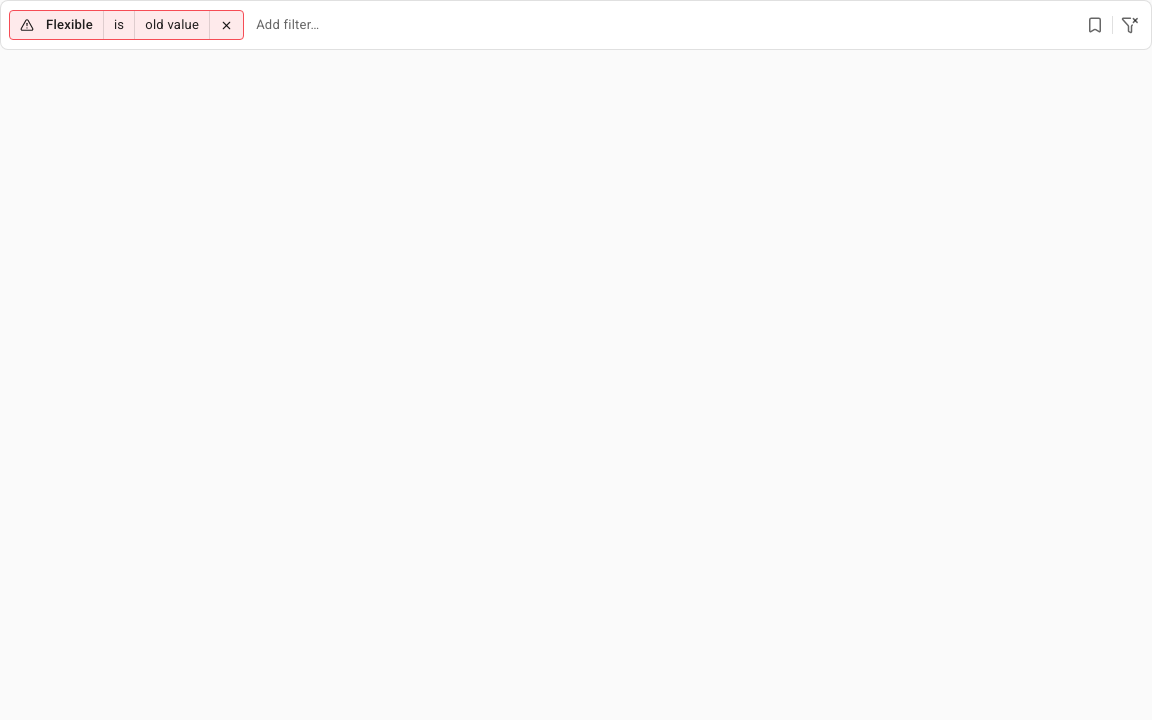
Test case: controller integration regressions › repairs a non-first same-key token after its field type changes
Click the button titled "Change value" at (172, 25), box [135,11,209,39]
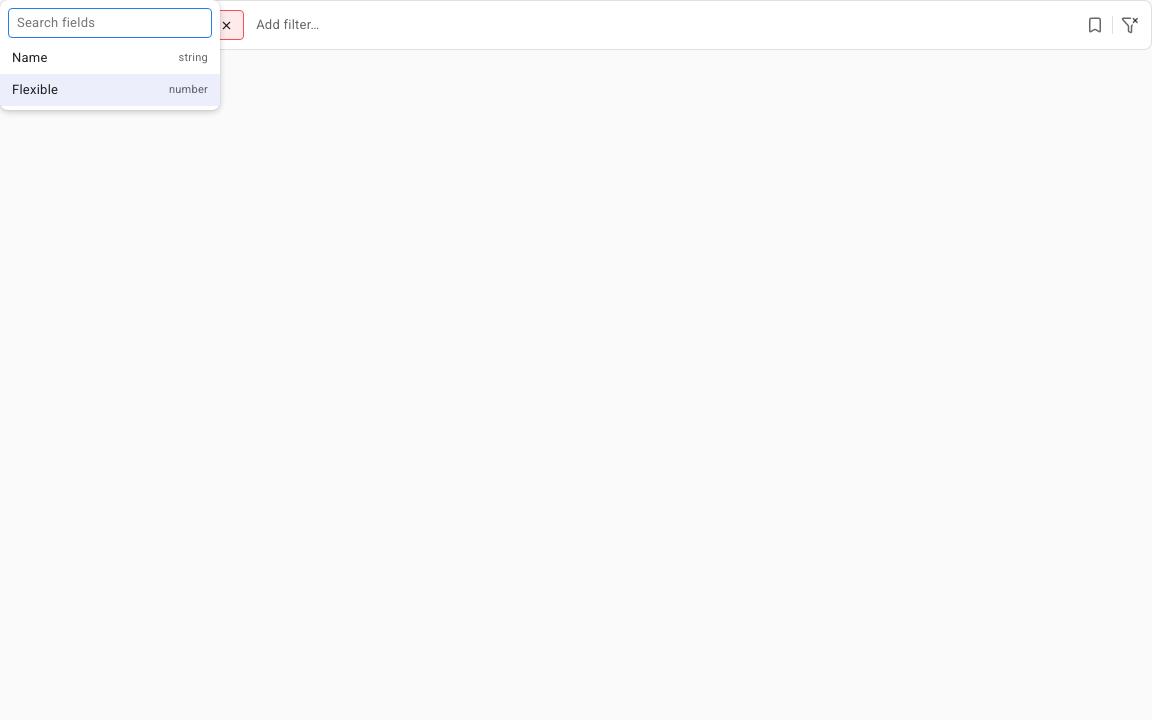
Expected: the dialog named "Choose field" is shown, [0,0,220,110]
Type keys "{Enter}{Enter}42{Enter}"
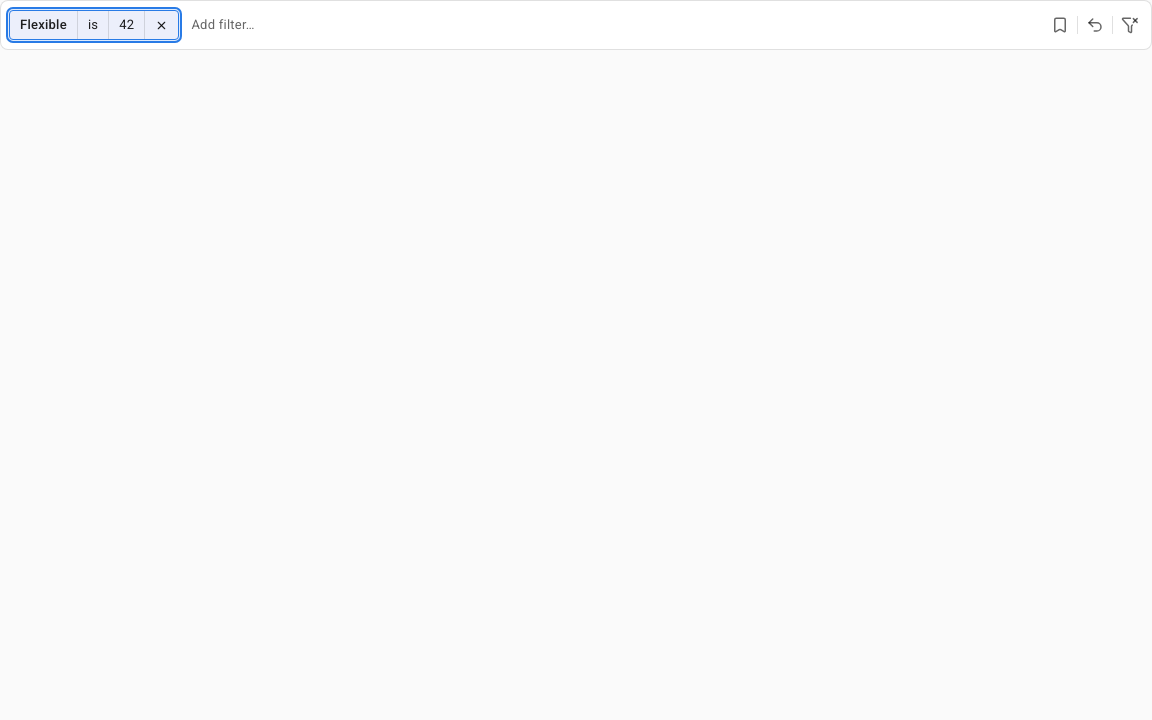
Expected: the element "Flexible is 42" is shown, [9,10,179,40]
